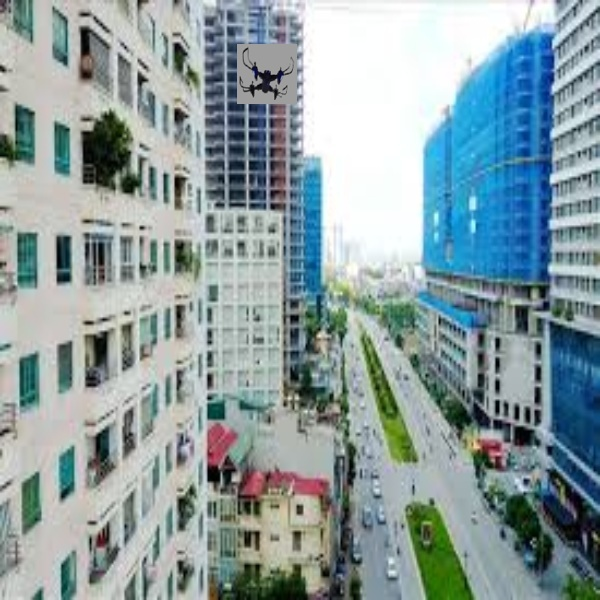drone: (235, 44, 297, 104)
